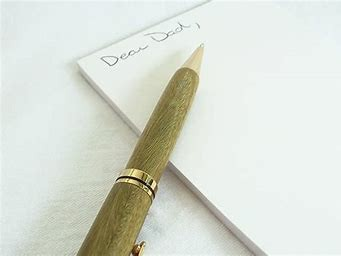pen: (98, 42, 205, 254)
